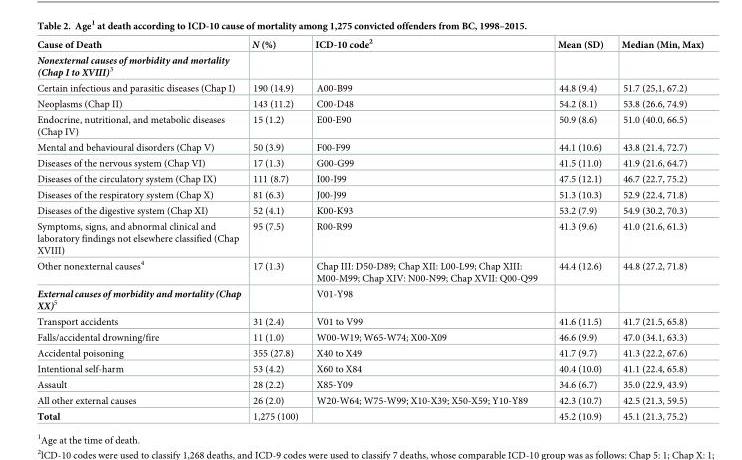table: (36, 37, 703, 421)
table column: (306, 37, 546, 421), (36, 37, 245, 421), (611, 37, 703, 421), (546, 37, 611, 421), (245, 37, 306, 421)
table column header: (36, 37, 703, 51)
table projected row header: (36, 51, 703, 80)
table row: (36, 218, 703, 257), (36, 284, 703, 314), (36, 51, 703, 80), (36, 111, 703, 139), (36, 257, 703, 284), (36, 95, 703, 111), (36, 139, 703, 155), (36, 170, 703, 186), (36, 186, 703, 202), (36, 202, 703, 218), (36, 329, 703, 345), (36, 360, 703, 376), (36, 376, 703, 392), (36, 392, 703, 408), (36, 80, 703, 95), (36, 155, 703, 170), (36, 314, 703, 329), (36, 345, 703, 360), (36, 37, 703, 51), (36, 408, 703, 421)
